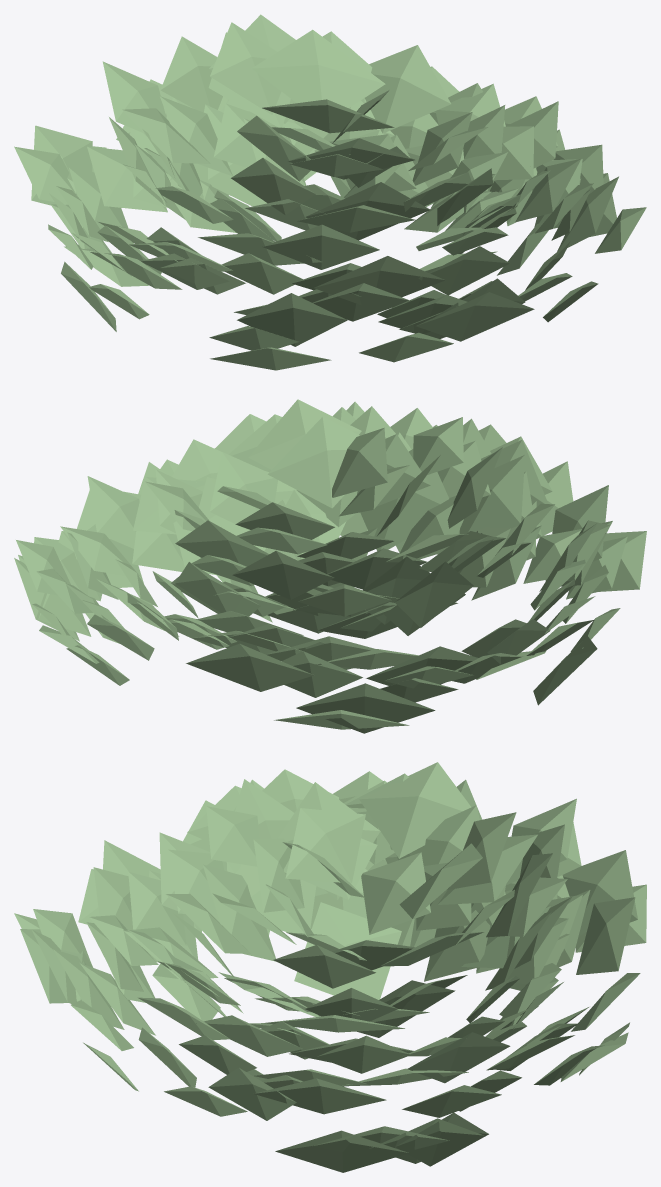
Rendered from island-shrub-1.glb.
3 renders of one model, top to bottom at view 1: azimuth 30°, elevation 25°; view 2: azimuth 150°, elevation 25°; view 3: azimuth 270°, elevation 25°, orthographic. The views are drawn at different scales.
Parts seen in each view (by area): view 1: IslandShrub.002; view 2: IslandShrub.002; view 3: IslandShrub.002.
Part boxes in pixels (left/top/right/bottom): IslandShrub.002: left=14, top=14, right=646, bottom=370; IslandShrub.002: left=14, top=399, right=646, bottom=733; IslandShrub.002: left=14, top=762, right=646, bottom=1172.
Bounding box in the file's own units: 1.9 × 0.7539 × 1.83.
